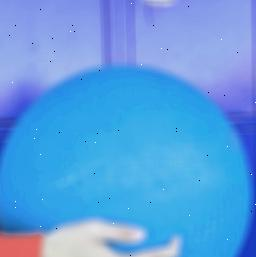algae: (0, 64, 251, 257)
